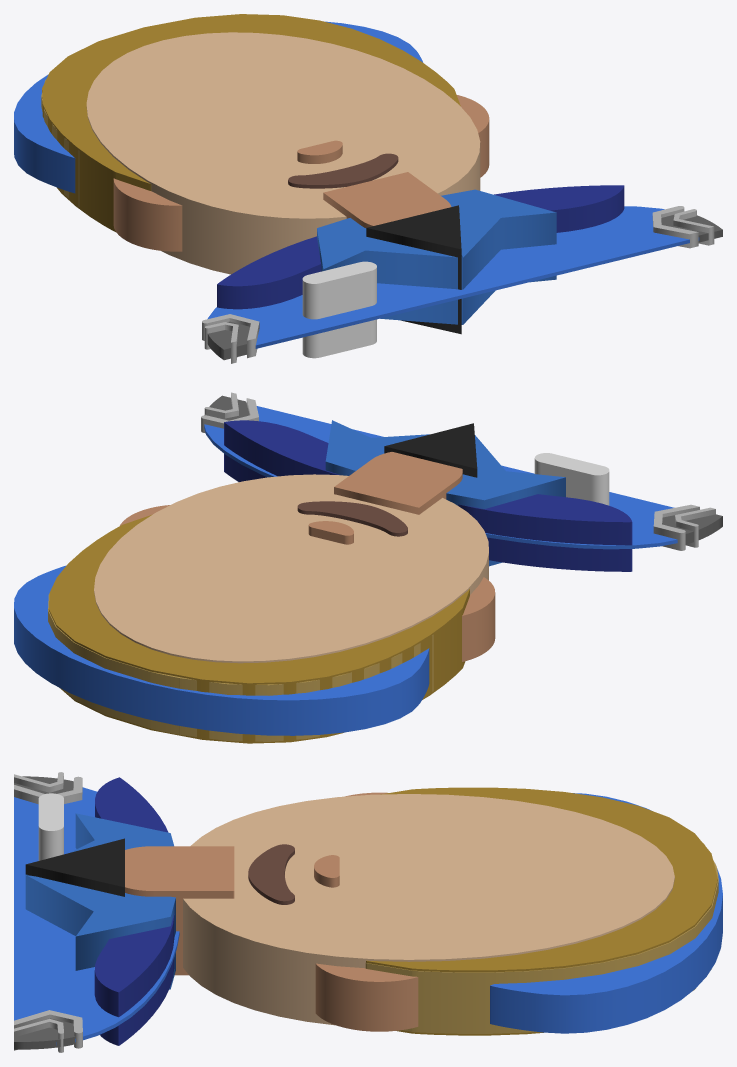
File: emoji_u1f46e_1f3fc_200d_2642.glb
3 renders of one model, top to bottom at view 1: azimuth 30°, elevation 25°; view 2: azimuth 150°, elevation 25°; view 3: azimuth 270°, elevation 25°, orthographic. The views are drawn at different scales.
Visible parts, largest first — view 1: emoji_u1f46e_1f3fc_200d_2642; view 2: emoji_u1f46e_1f3fc_200d_2642; view 3: emoji_u1f46e_1f3fc_200d_2642.
Part boxes in pixels (x1=…): emoji_u1f46e_1f3fc_200d_2642: x1=14, y1=14, x2=722, y2=363; emoji_u1f46e_1f3fc_200d_2642: x1=14, y1=392, x2=722, y2=743; emoji_u1f46e_1f3fc_200d_2642: x1=14, y1=772, x2=722, y2=1052.
Size of the model in its own units: 0.0295 by 0.0048 by 0.0336.
